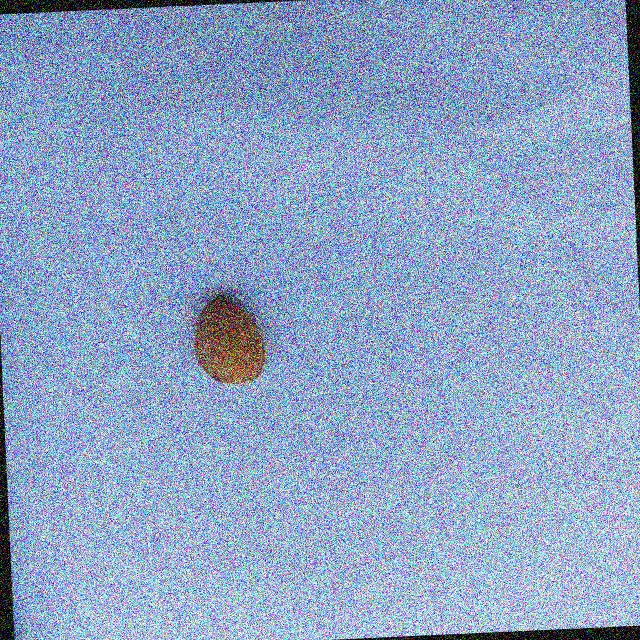grade2: (189, 289, 273, 389)
